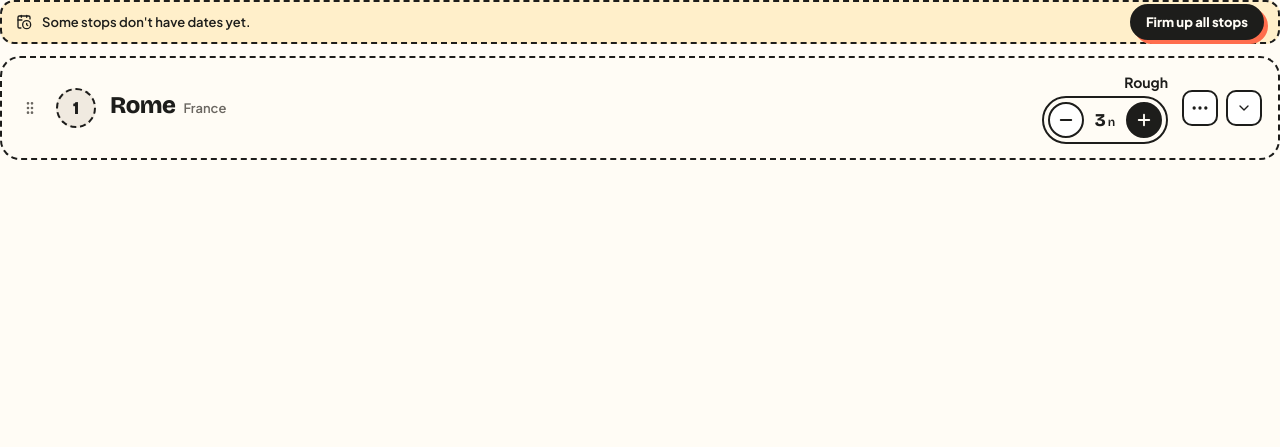
Scenario: delete confirmation gating › ARCH-DAT-1: hides the Delete Stop control for a non-owner
Click the button named "More actions for Rome".
click(1200, 108)  # box [1182, 90, 1218, 126]
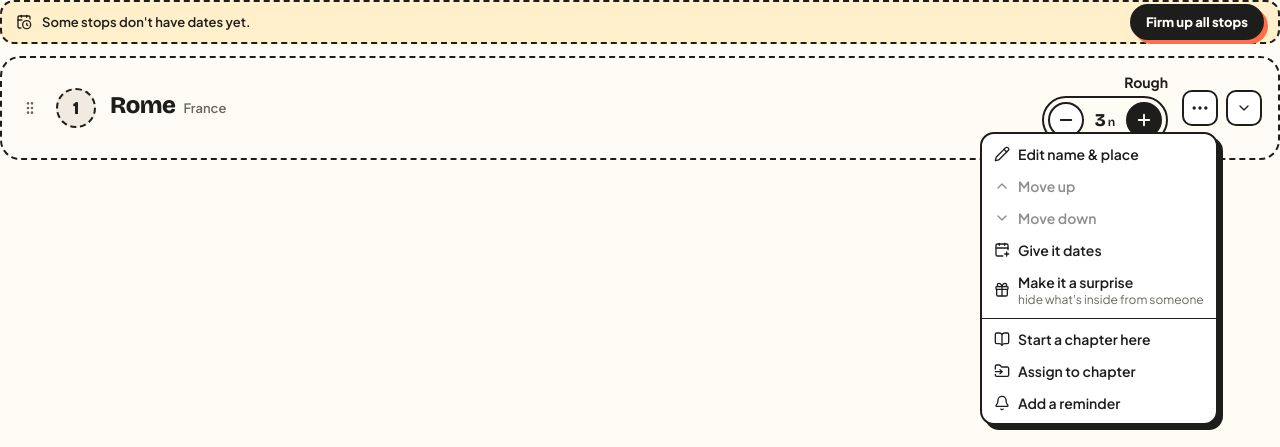
Now the menu is shown, box [980, 132, 1218, 425]
